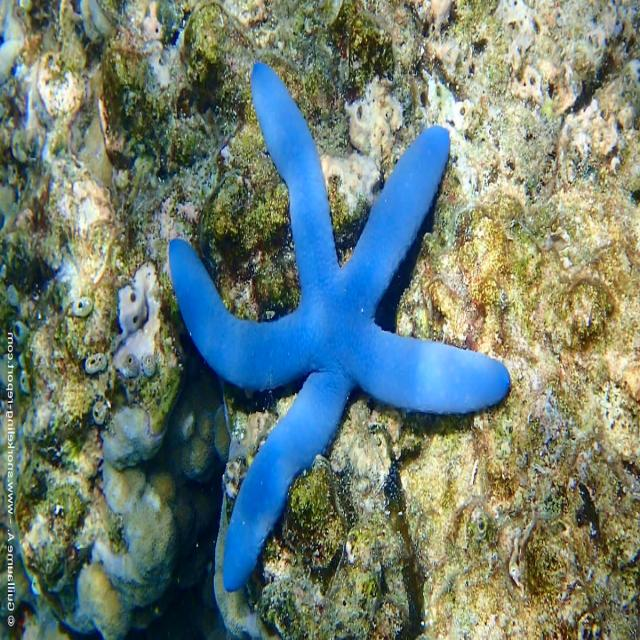starfish: (169, 63, 509, 590)
